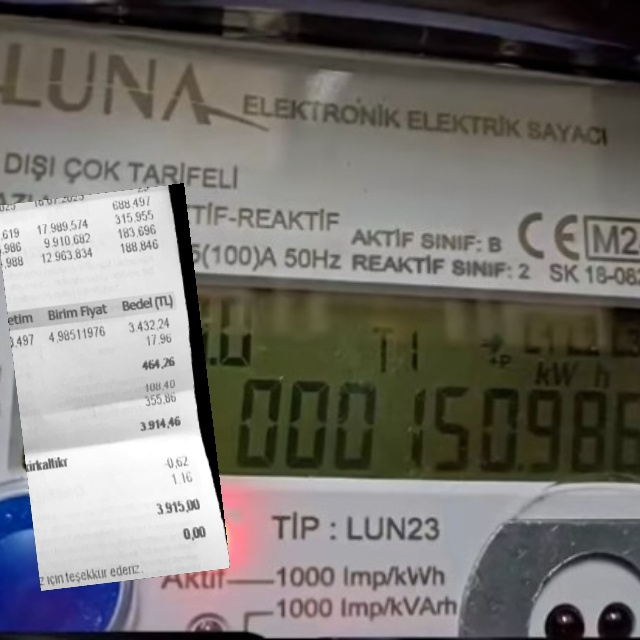electricity-bill: (0, 182, 229, 590)
